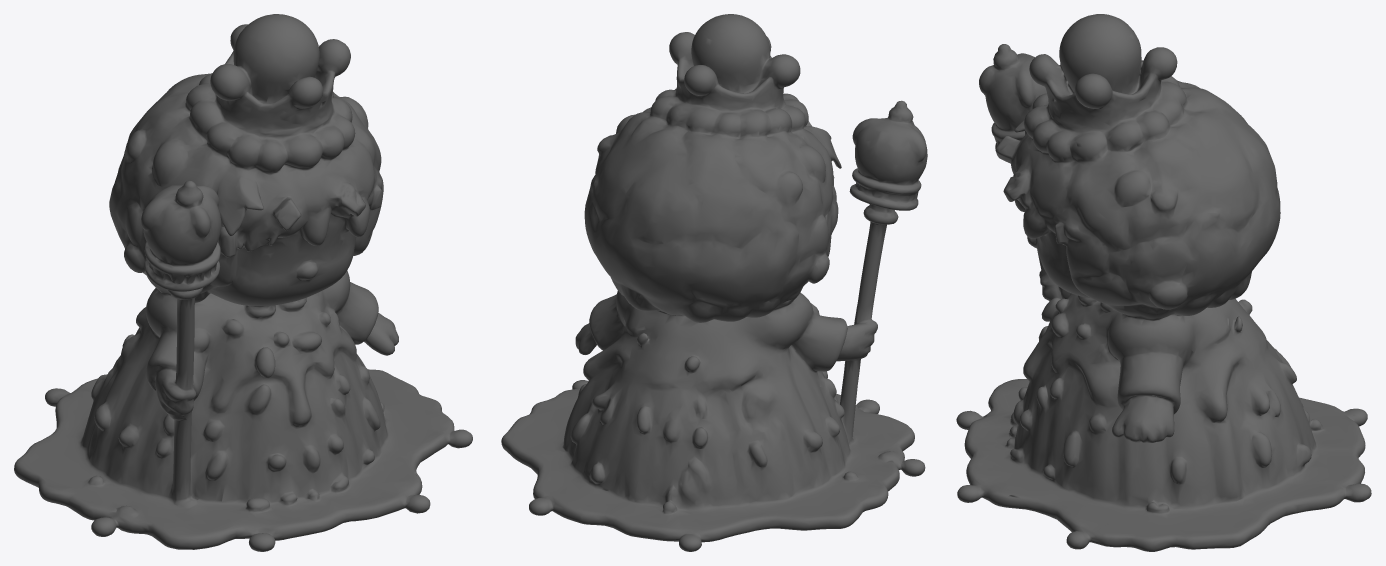
3 renders of one model, left to right at view 1: azimuth 30°, elevation 25°; view 2: azimuth 150°, elevation 25°; view 3: azimuth 270°, elevation 25°, orthographic. The views are drawn at different scales.
Parts seen in each view (by area): view 1: mesh_uvwarp; view 2: mesh_uvwarp; view 3: mesh_uvwarp.
Boxes of the visible parts, box(x1,y1,x2,y2) form: mesh_uvwarp: box(14, 14, 472, 551); mesh_uvwarp: box(501, 14, 927, 551); mesh_uvwarp: box(956, 14, 1371, 551).
Size of the model in its own units: 1.77 by 2 by 1.68.
1 material, 1 textured.
